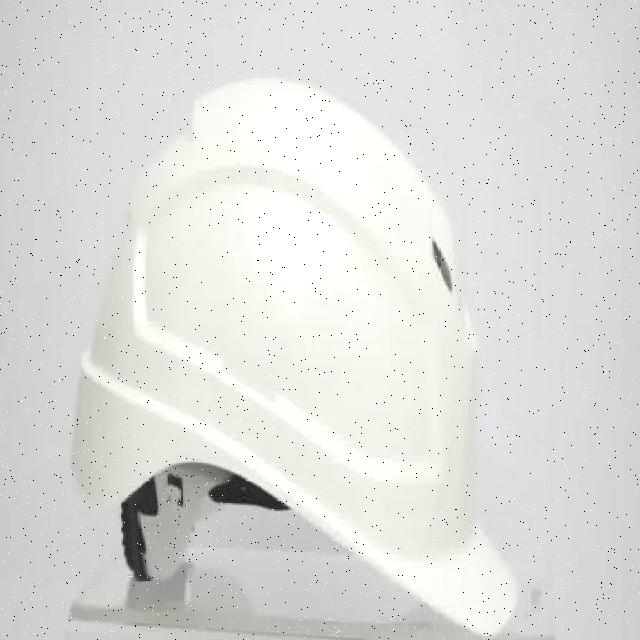Helmet: (69, 74, 522, 638)
